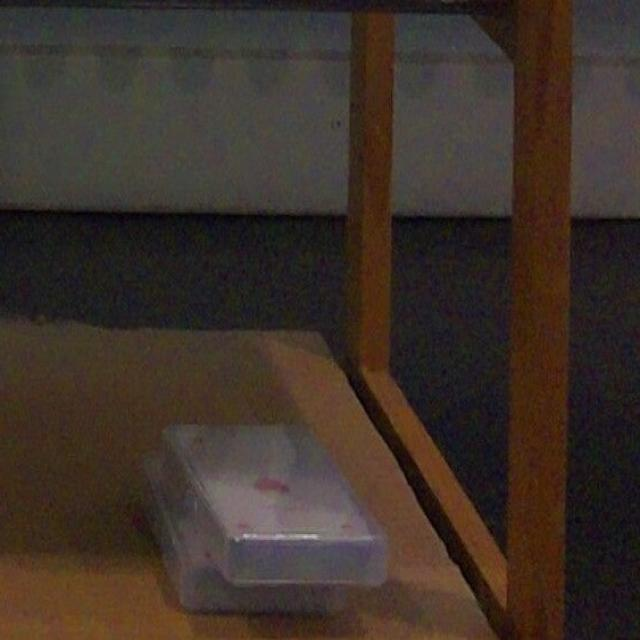Jasskarte: (163, 425, 385, 584), (144, 458, 346, 615)
